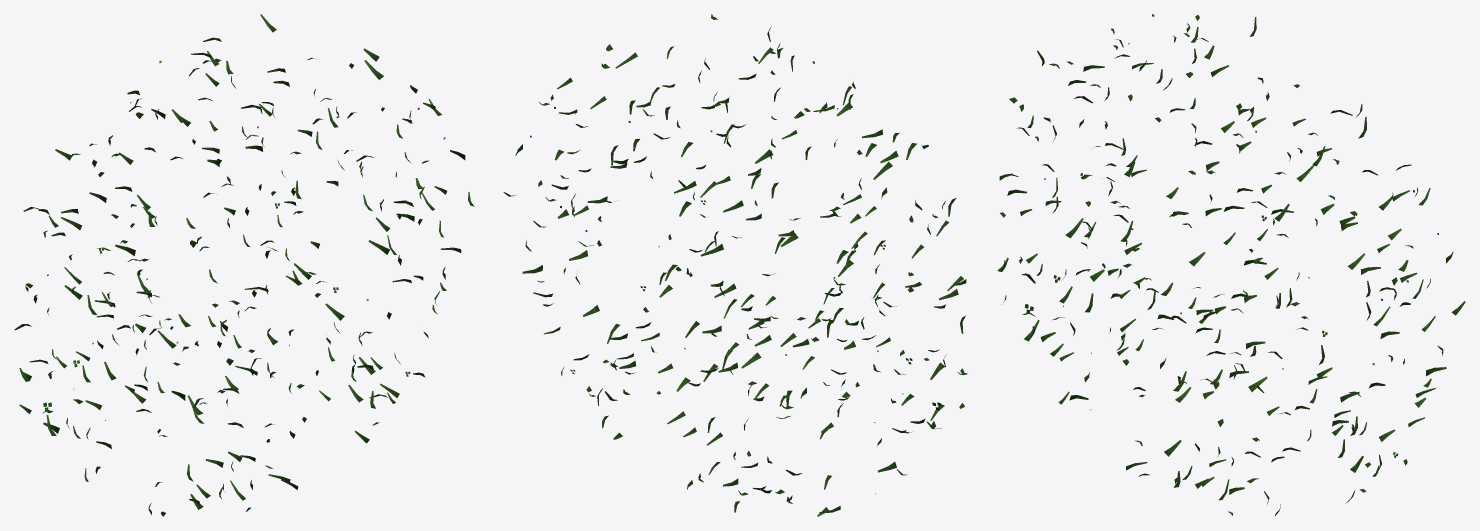
The model's file is Grass_Tile_NorthWoods.glb.
3 views of the same model, side by side, from view 1: azimuth 30°, elevation 25°; view 2: azimuth 150°, elevation 25°; view 3: azimuth 330°, elevation 25° (orthographic). The views are drawn at different scales.
Parts seen in each view (by area): view 1: Grass_Tile_NorthWoods; view 2: Grass_Tile_NorthWoods; view 3: Grass_Tile_NorthWoods.
Boxes of the visible parts, box(x1,y1,x2,y2) form: Grass_Tile_NorthWoods: box(14, 14, 474, 516); Grass_Tile_NorthWoods: box(503, 14, 967, 516); Grass_Tile_NorthWoods: box(997, 14, 1465, 515).
Size of the model in its own units: 1.38 by 1.42 by 0.0744.
